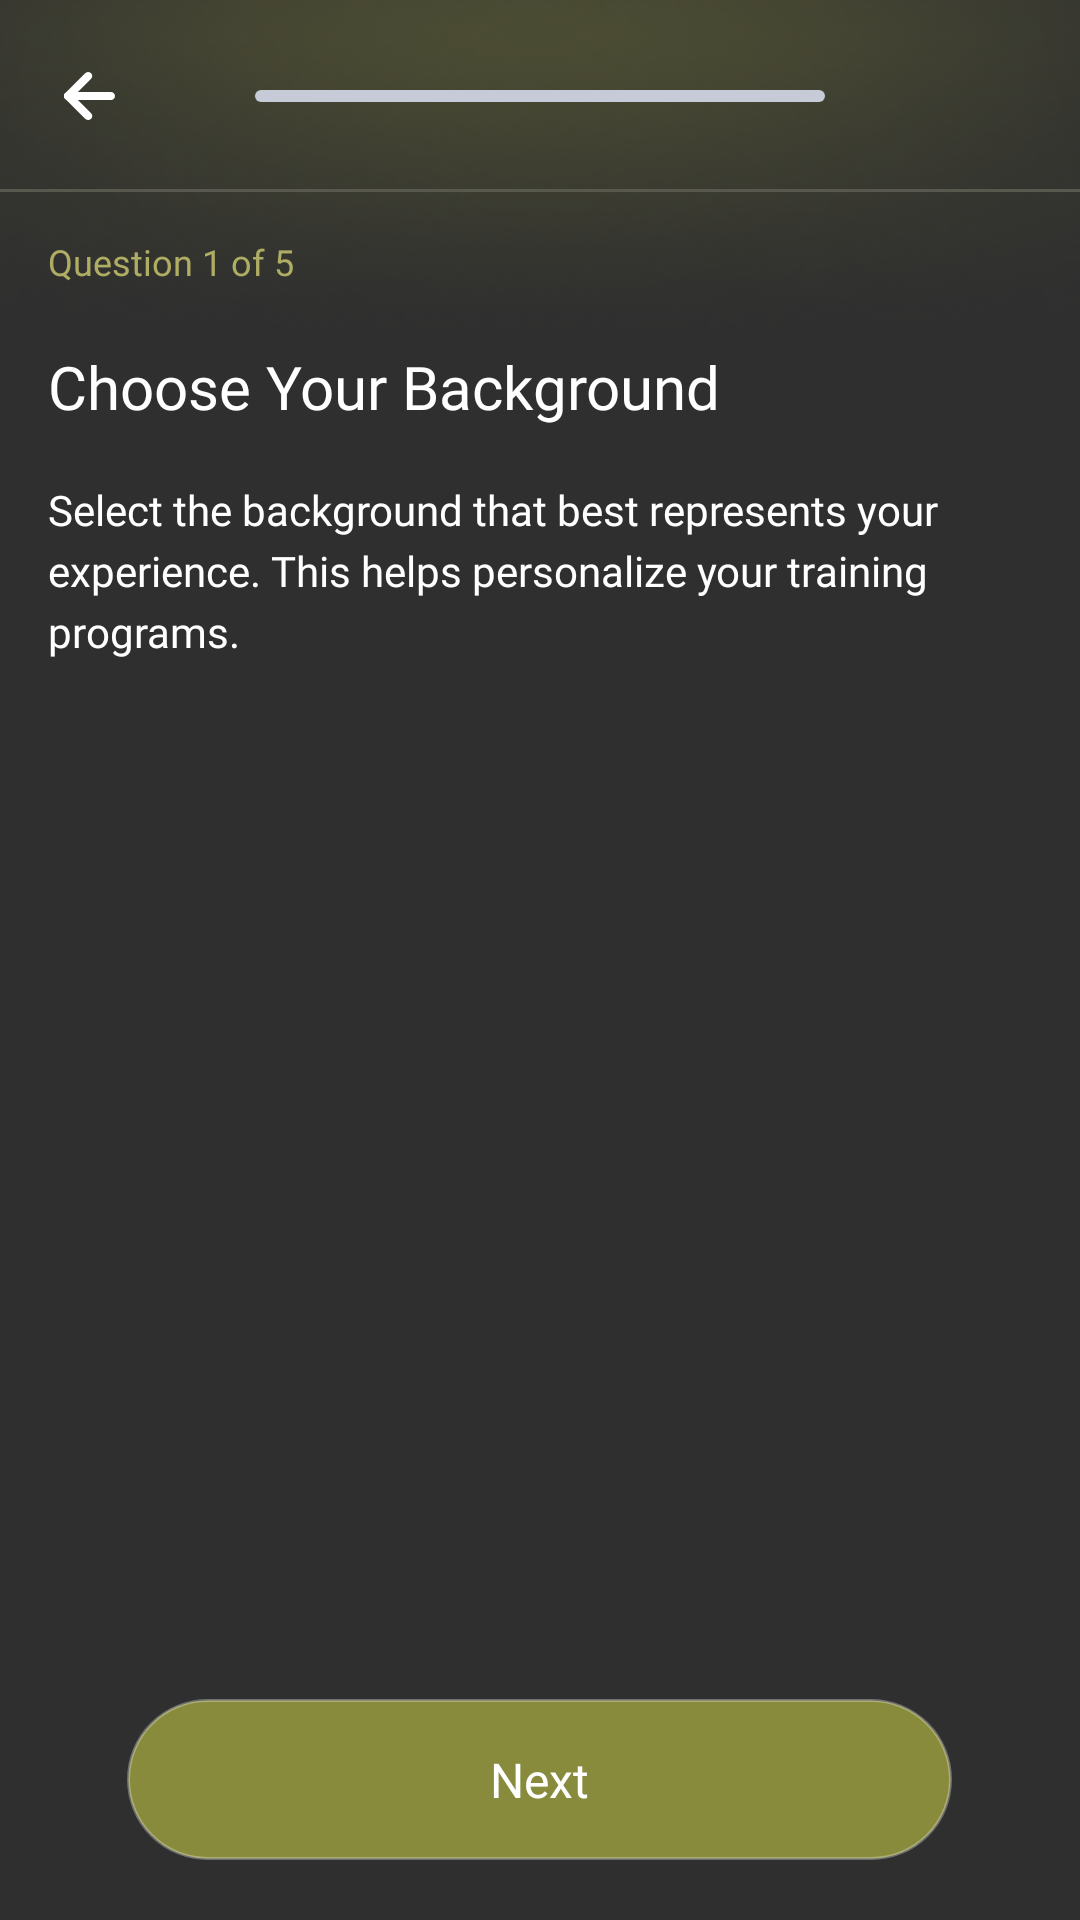

Locate icon controls on the screen. Image size 1080px x 1920px, boxes as (x1, y1, x2, y2).
back arrow: (64, 72, 115, 120)
